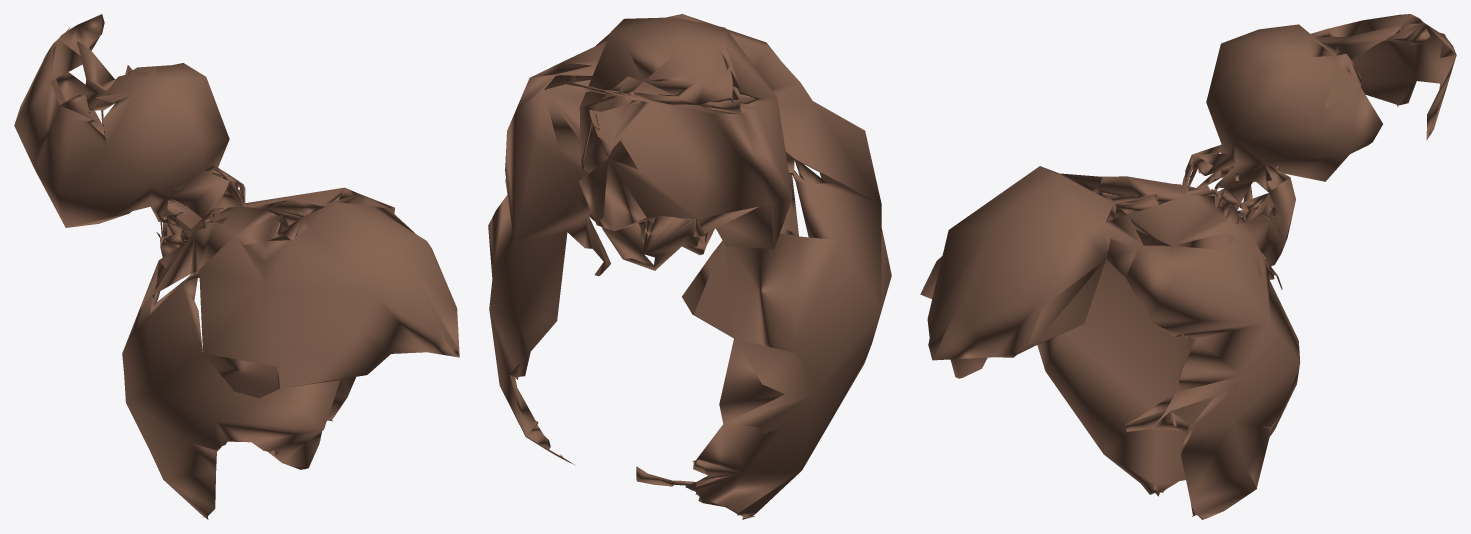
File: Hair_bun_LOD0.glb
The picture shows the model from 3 angles, left to right: view 1: azimuth 30°, elevation 25°; view 2: azimuth 150°, elevation 25°; view 3: azimuth 270°, elevation 25°; orthographic projection. The views are drawn at different scales.
Parts seen in each view (by area): view 1: Hair_bun_LOD0; view 2: Hair_bun_LOD0; view 3: Hair_bun_LOD0.
Part boxes in pixels (x1,y1,x2,y2): Hair_bun_LOD0: (14,14,459,519); Hair_bun_LOD0: (488,14,891,519); Hair_bun_LOD0: (920,14,1456,519).
Size of the model in its own units: 0.246 by 0.3245 by 0.3365.
